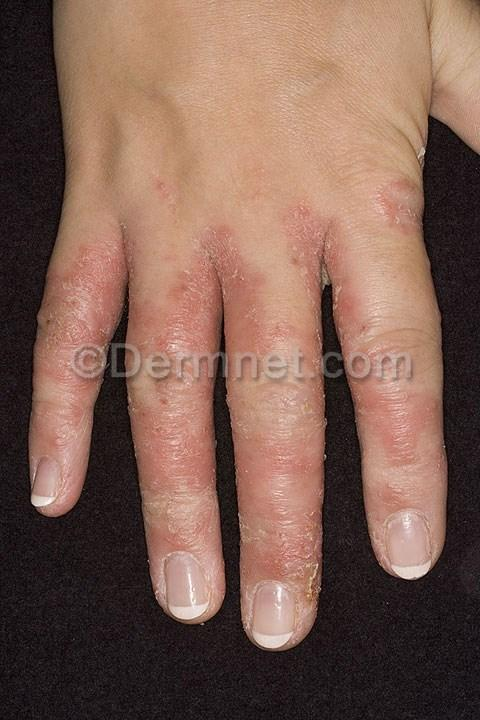Eczema: (125, 389, 228, 503), (251, 506, 335, 613), (229, 382, 335, 463), (363, 385, 442, 472), (283, 199, 349, 287), (98, 216, 162, 286), (41, 266, 97, 345), (35, 382, 108, 441), (139, 513, 223, 564), (205, 229, 256, 301), (163, 275, 207, 345), (383, 166, 422, 235), (149, 169, 194, 216), (373, 476, 412, 526)
